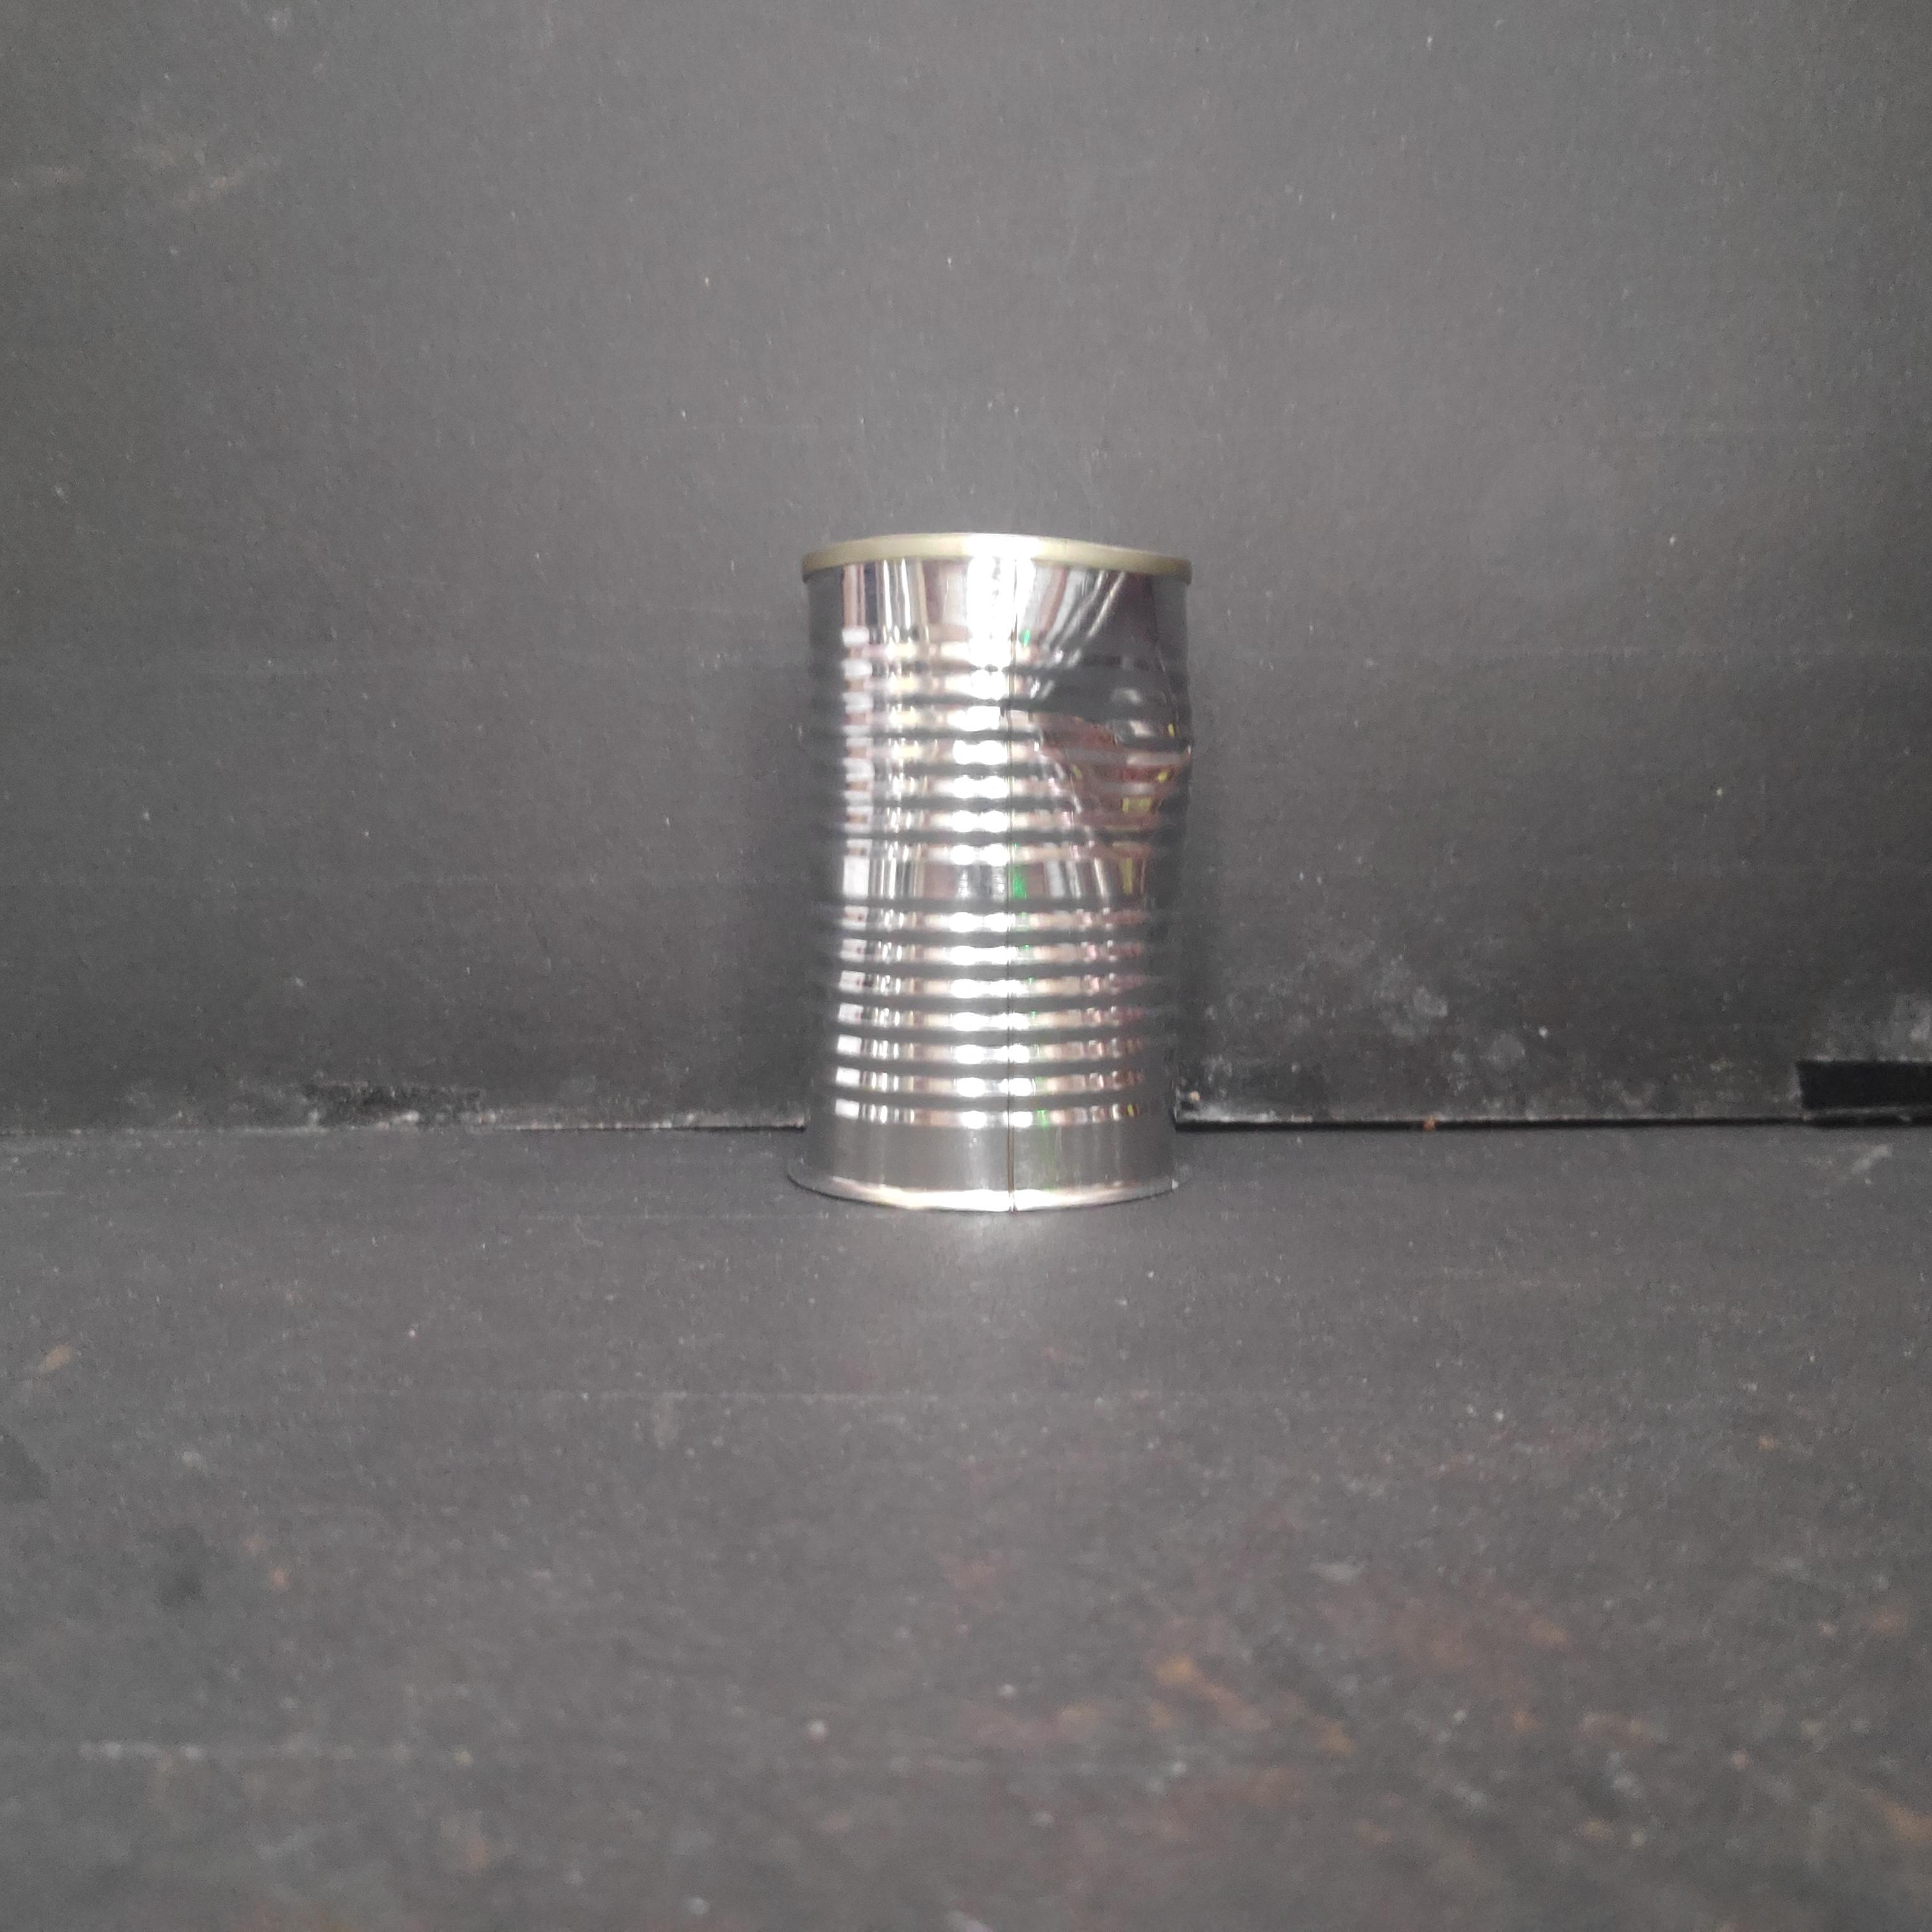Minor Defect: (791, 518, 1196, 1230)
